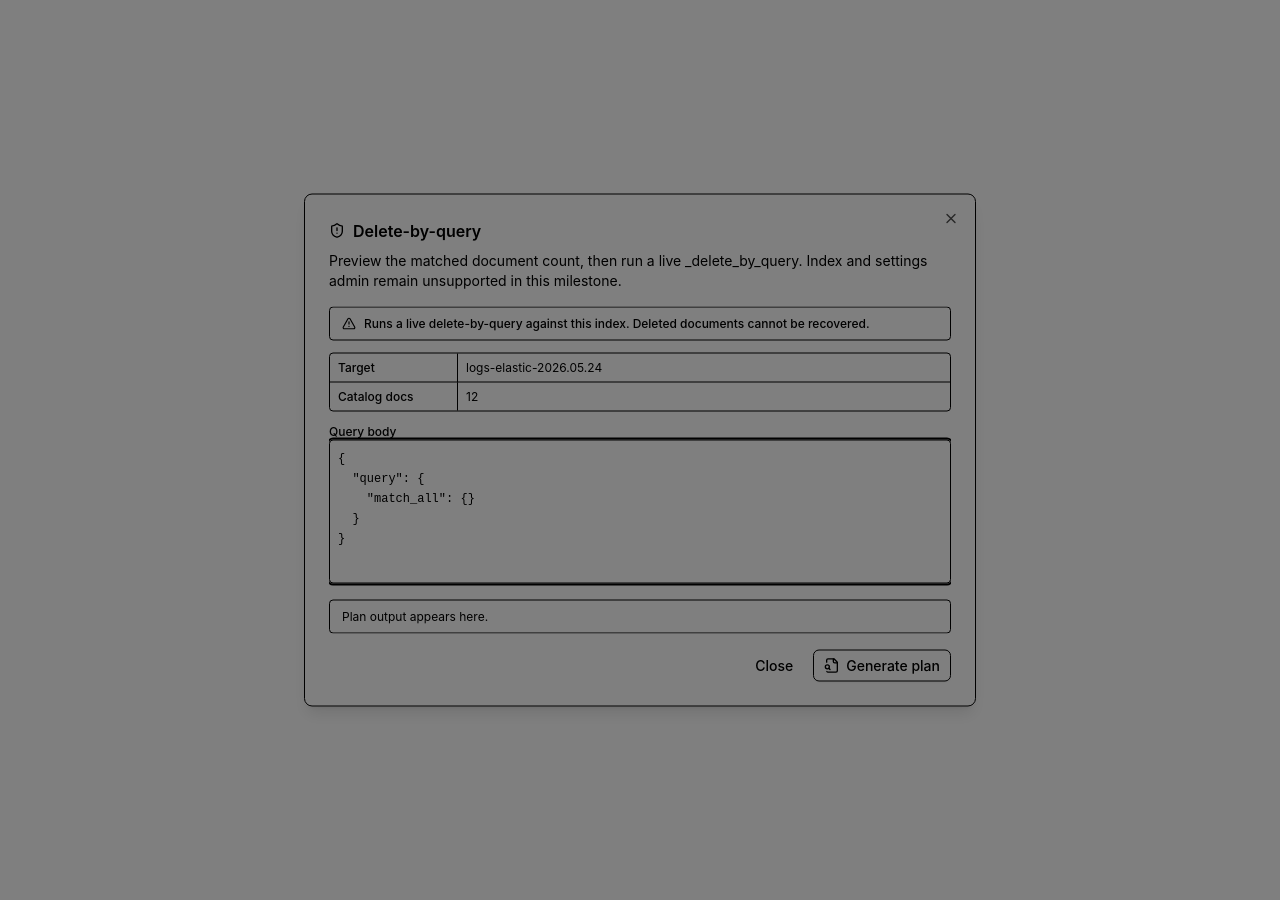
Test: SearchDeleteByQueryPreviewDialog › surfaces a partial delete as deleted + failed counts
The image size is (1280, 900).
Step 1. Click the button "Generate plan" → [882, 666], box [813,650,951,682]
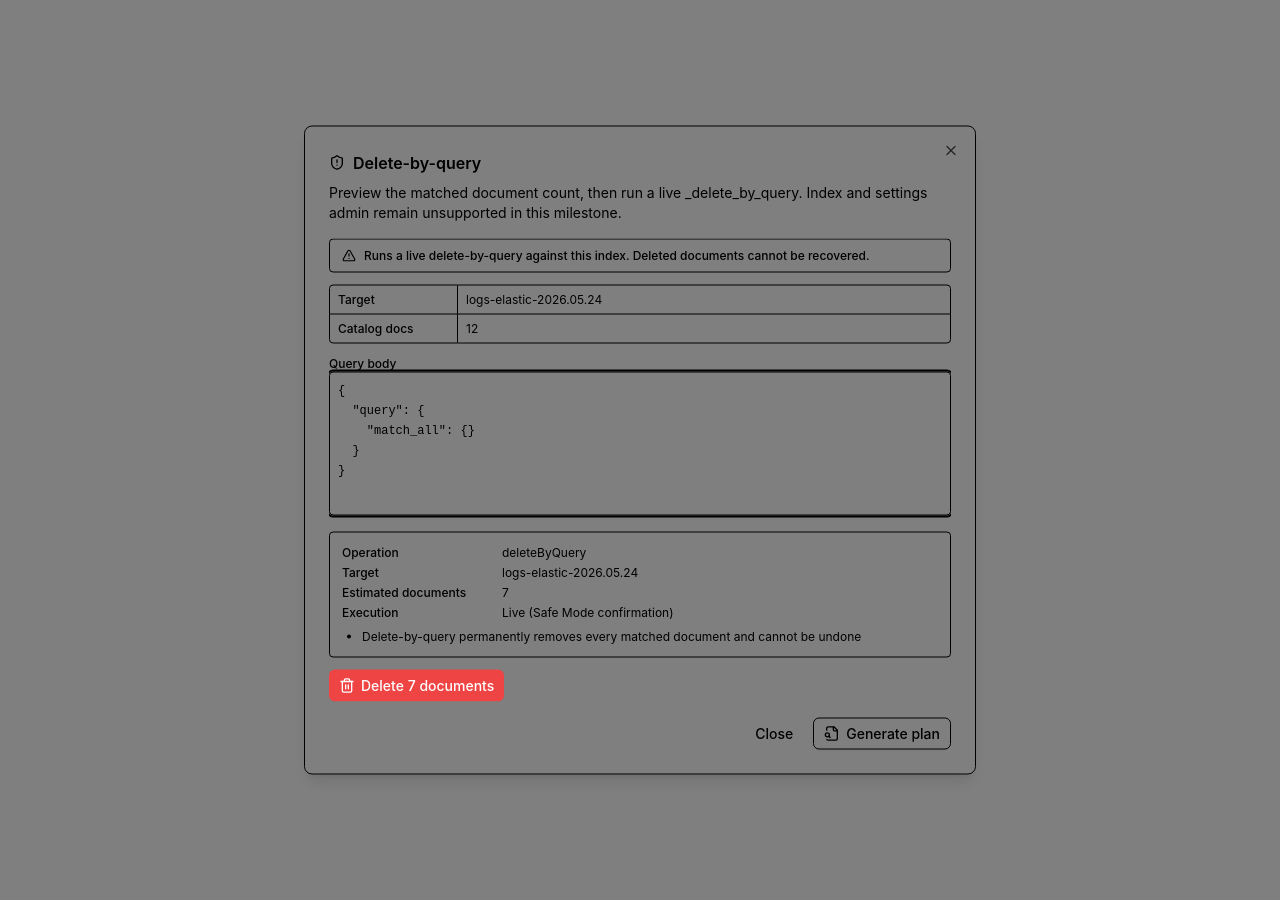
Step 2. Click the button "Delete 7 documents" → [417, 686], box [329,670,504,702]
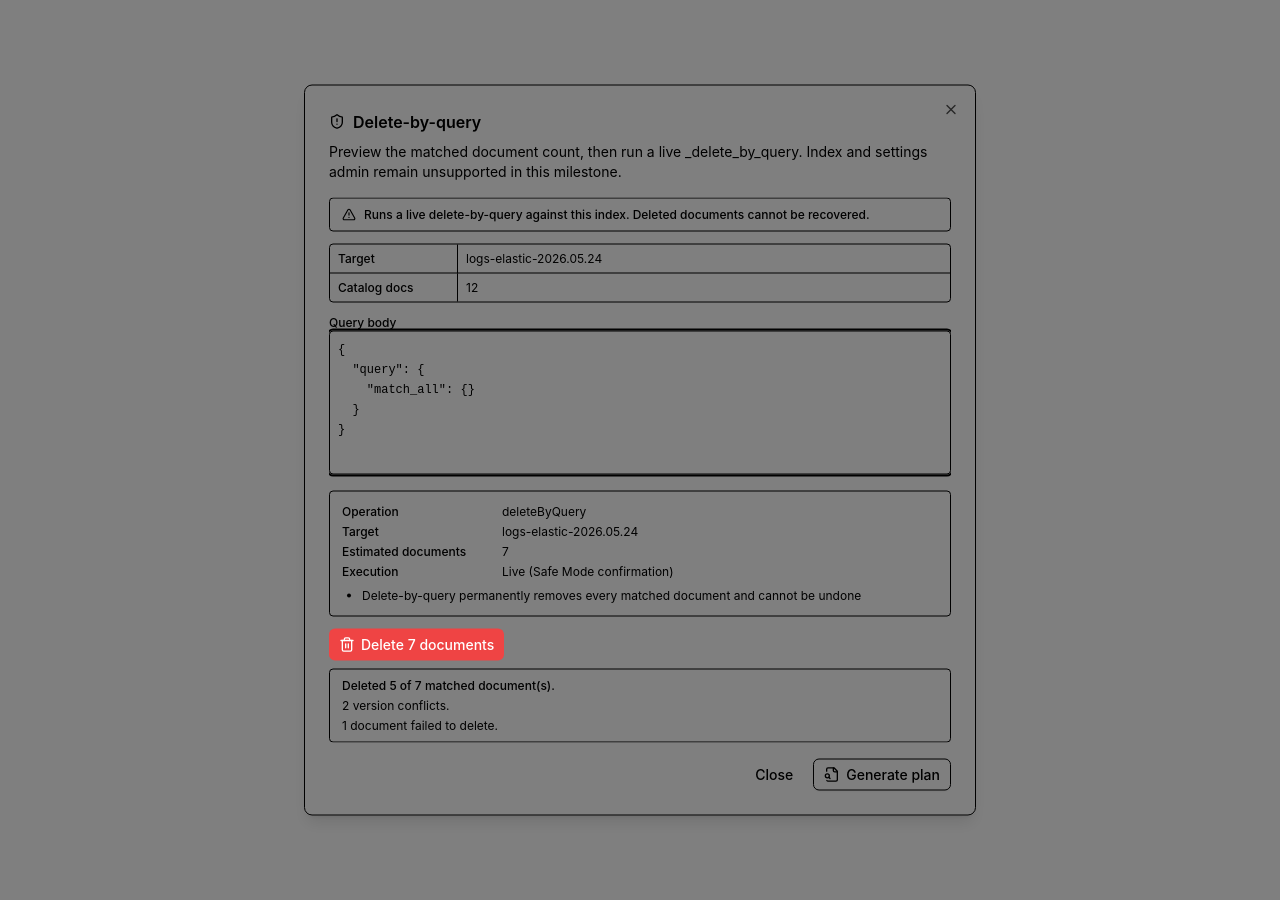
Check: the element named "Delete-by-query result" shows "Deleted 5 of 7 matched document(s).", box [342,678,555,692]
Check: the element named "Delete-by-query result" shows "2 version conflicts.", box [342,698,450,712]
Check: the element named "Delete-by-query result" shows "1 document failed to delete.", box [342,718,498,732]
